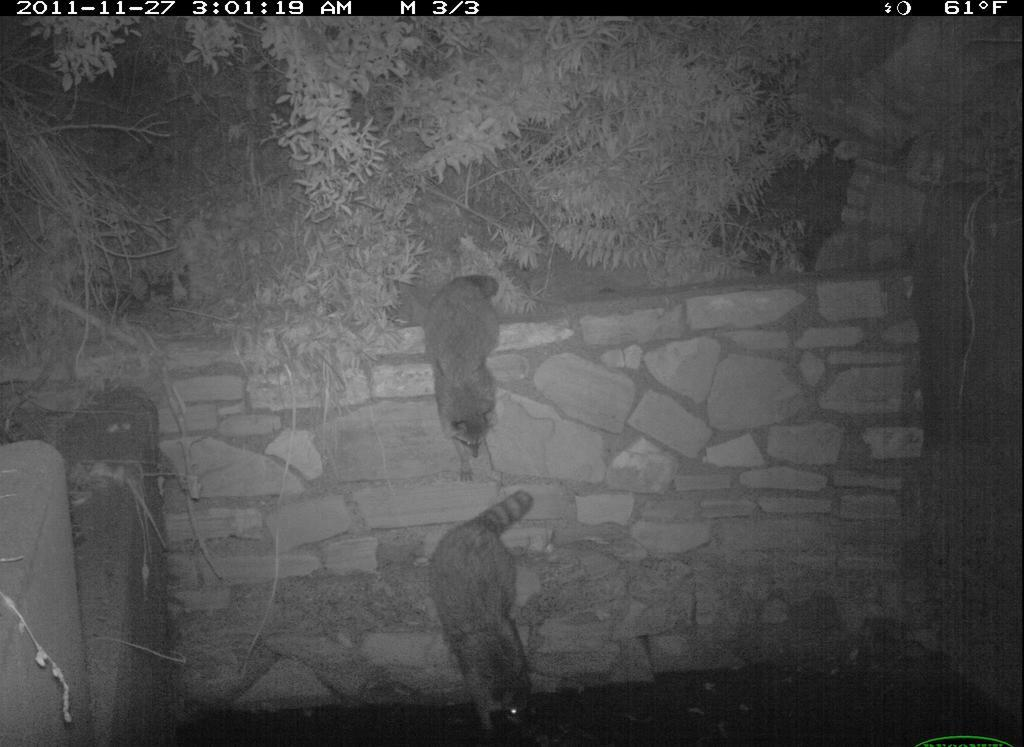raccoon: (418, 488, 550, 744), (414, 268, 520, 491)
